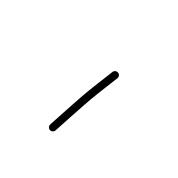t: (30, 55, 137, 149)
